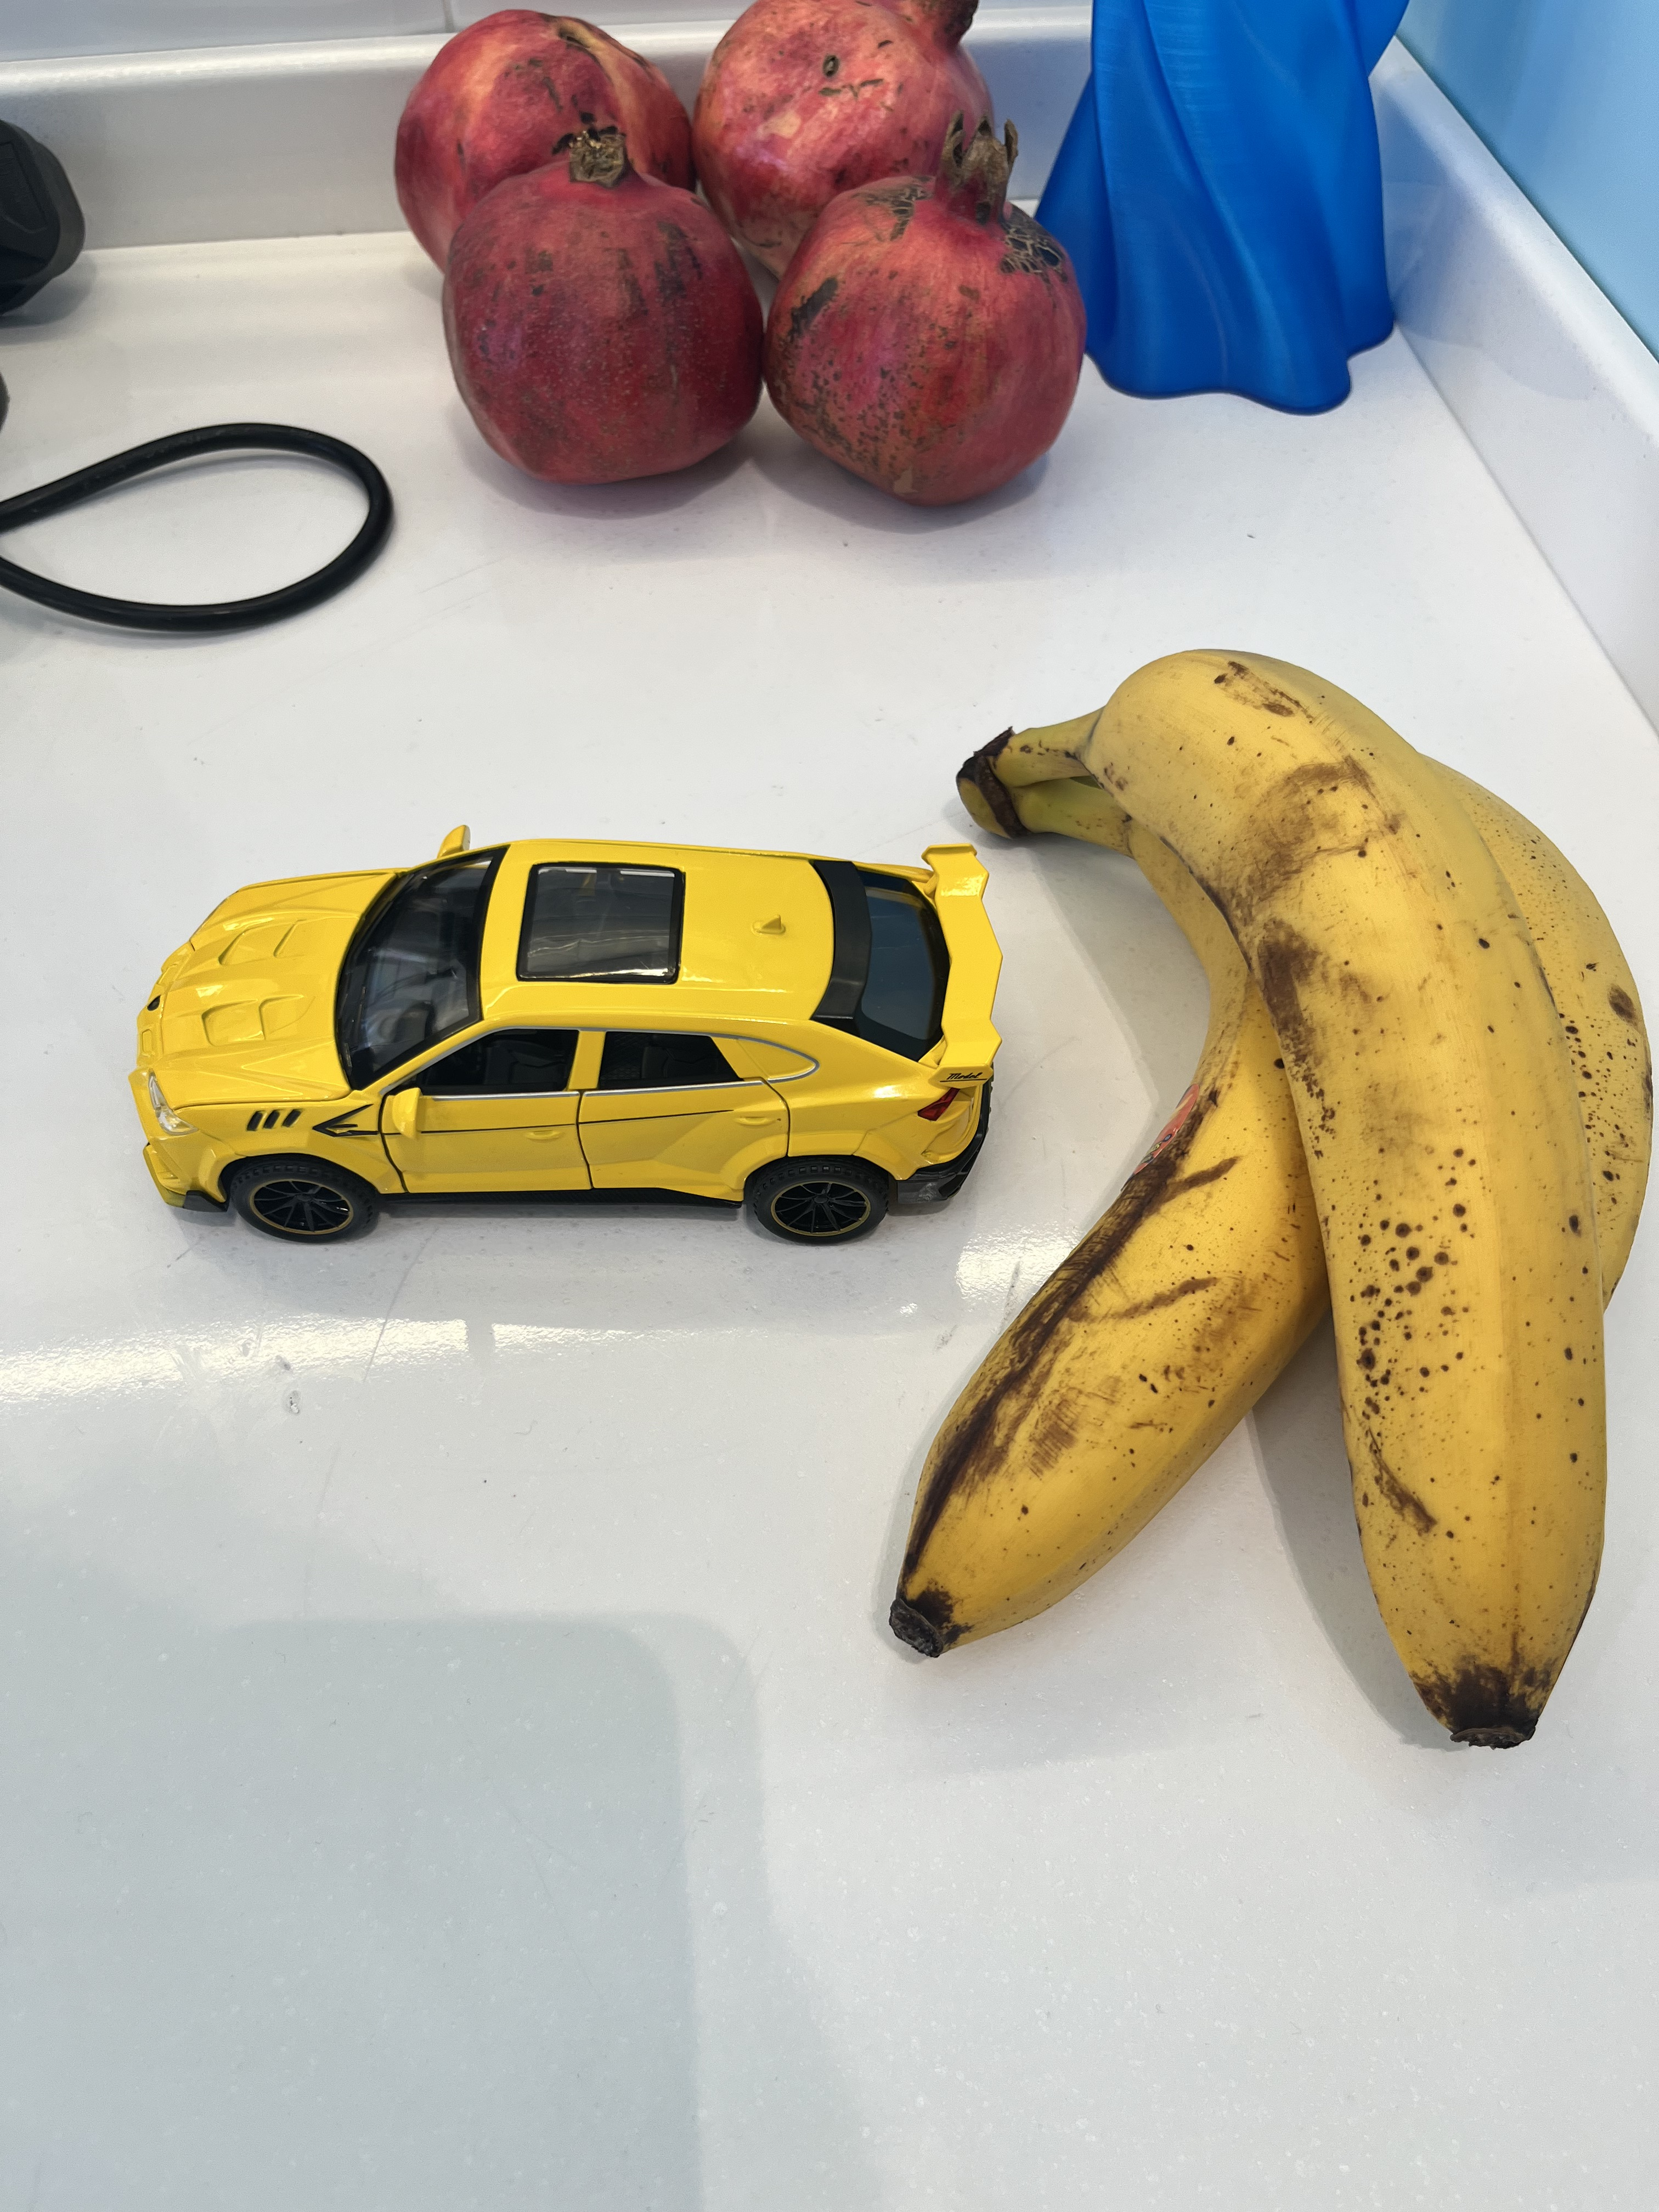lambo: (110, 829, 992, 1259)
